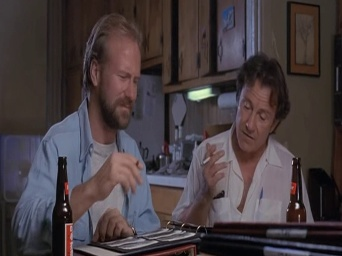smoke: (198, 153, 214, 168)
